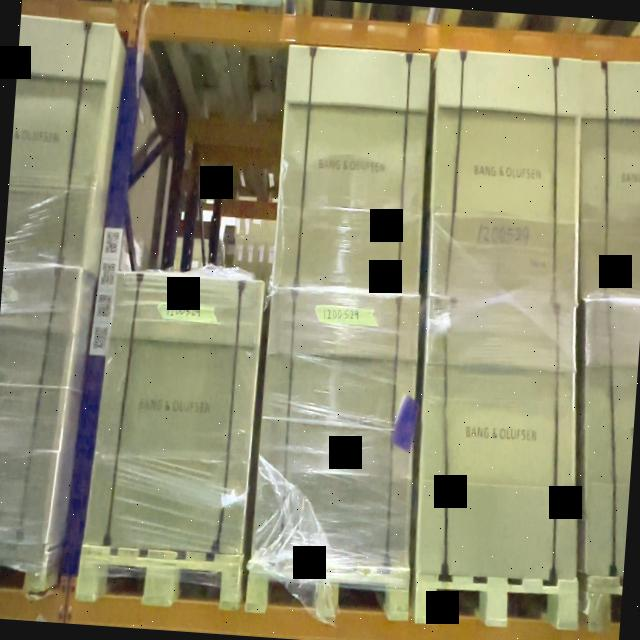box: (84, 277, 260, 552), (253, 291, 424, 568), (417, 301, 575, 577), (272, 46, 433, 292), (429, 49, 577, 299)
